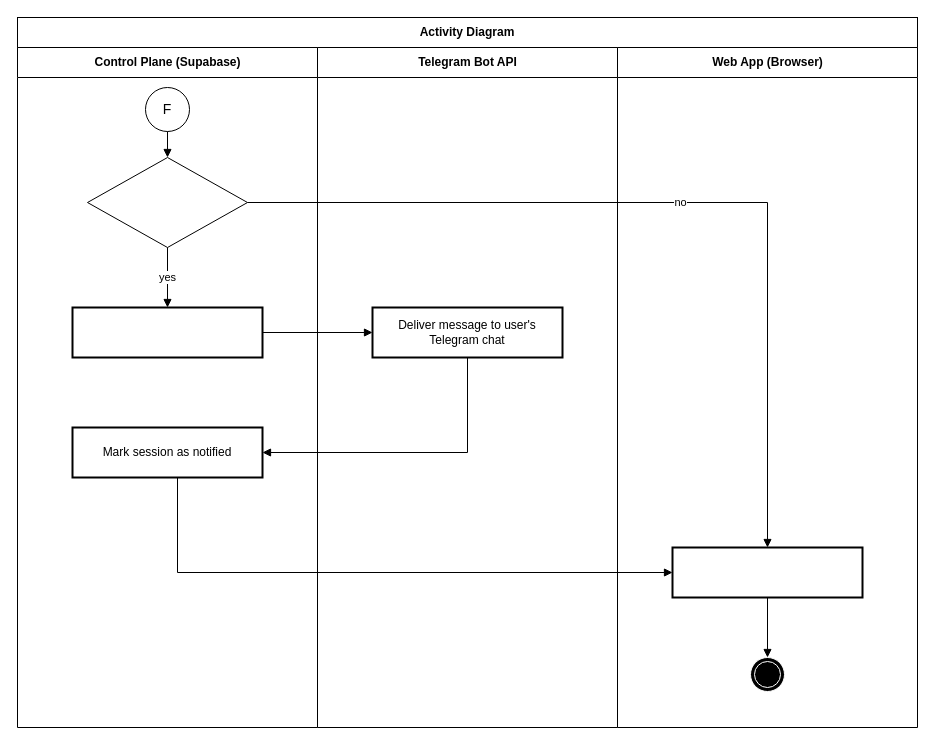
Some shapes in this 935 by 745 pixel diagram are drawn without their labels. Each missing label, with the centre of its shape:
"Format summary message" goes at (x=167, y=332).
"Notifications on for this user?" goes at (x=167, y=202).
"Show results, analyses and leaderboard" goes at (x=767, y=572).
